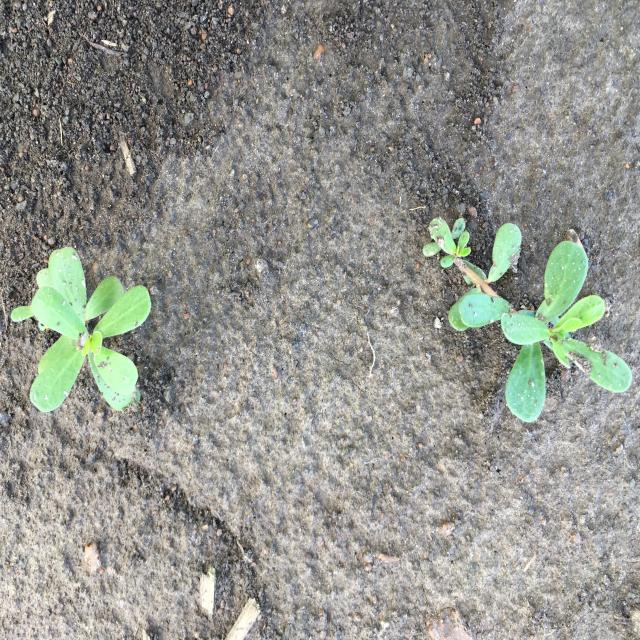Purslane: (422, 217, 632, 423), (10, 247, 152, 412)
